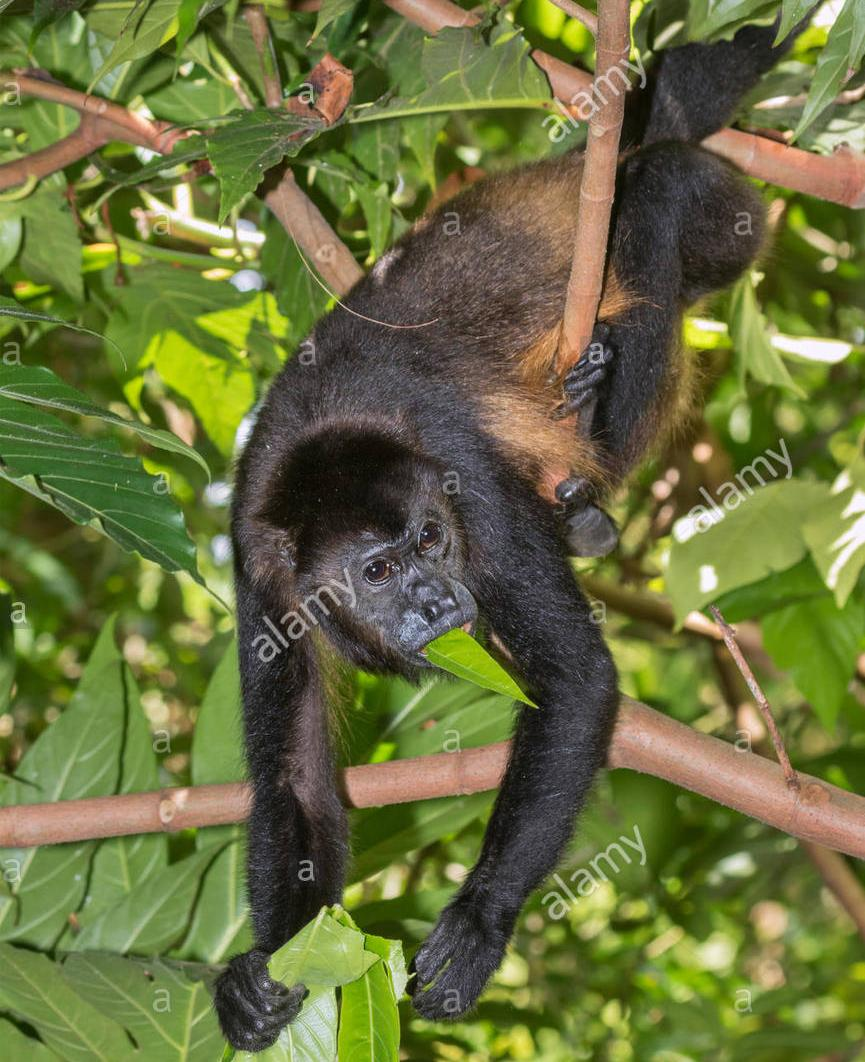monkey: (216, 149, 778, 1052)
